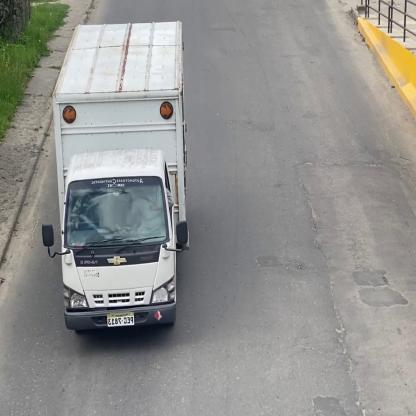Placa: (107, 309, 135, 327)
